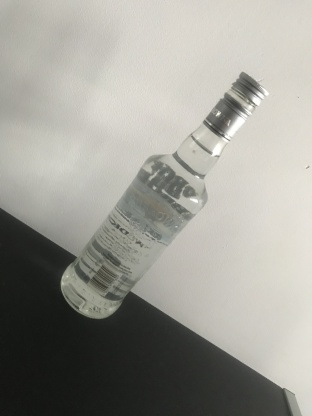nakretka: (202, 69, 270, 144)
